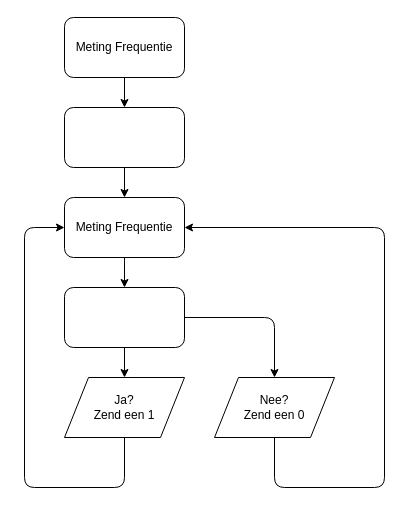
This 410x513 diagram has some shape labels left out. The shapes that lost their labels are listed below. From the top down, each one's centre as x and y in pixels, then its label:
pixel 124 137: Setup Frequentie instellen
pixel 124 317: Is Frequentie > Setup frequentie + 2500?
